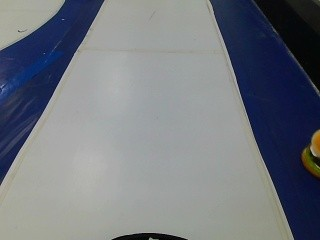burger: (297, 124, 318, 186)
